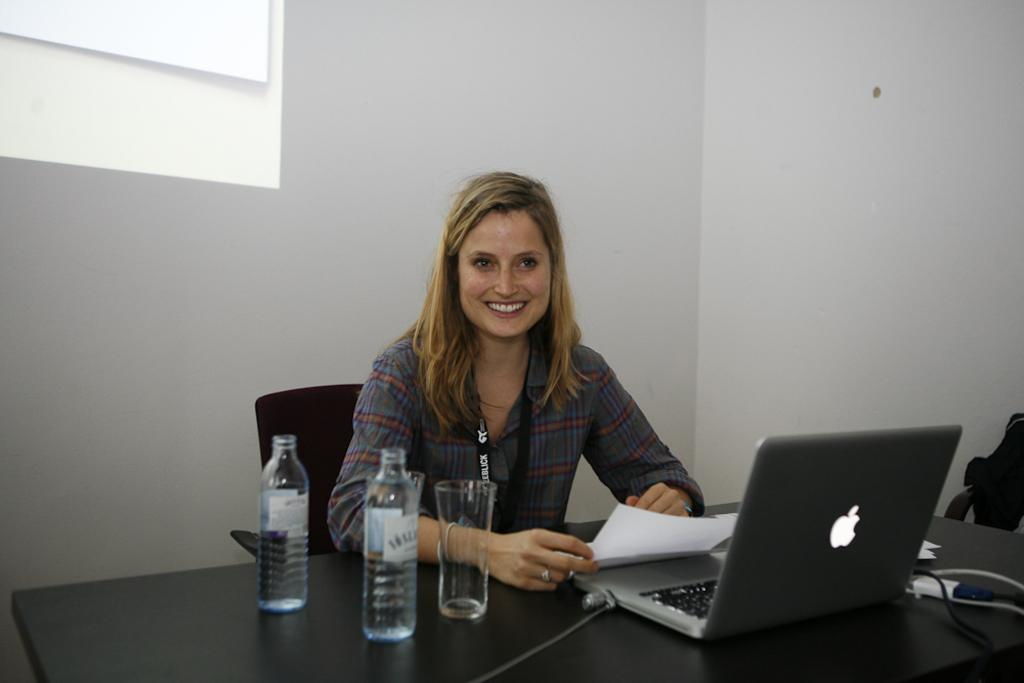Laptop: (551, 435, 970, 646)
